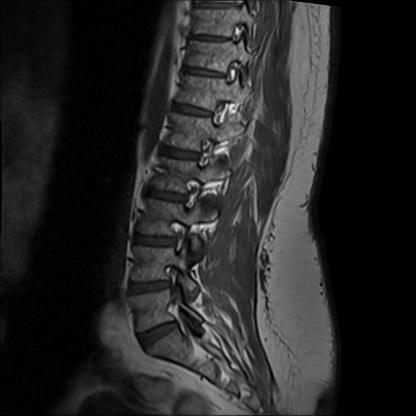Annular Disc Relaxationrotation: (133, 230, 177, 252), (160, 146, 200, 164)
Degenerative Disc Diseaserotation: (125, 277, 173, 298), (143, 187, 188, 208)
Disc Bulgerotation: (137, 323, 183, 349), (126, 277, 174, 298), (143, 188, 188, 209)
